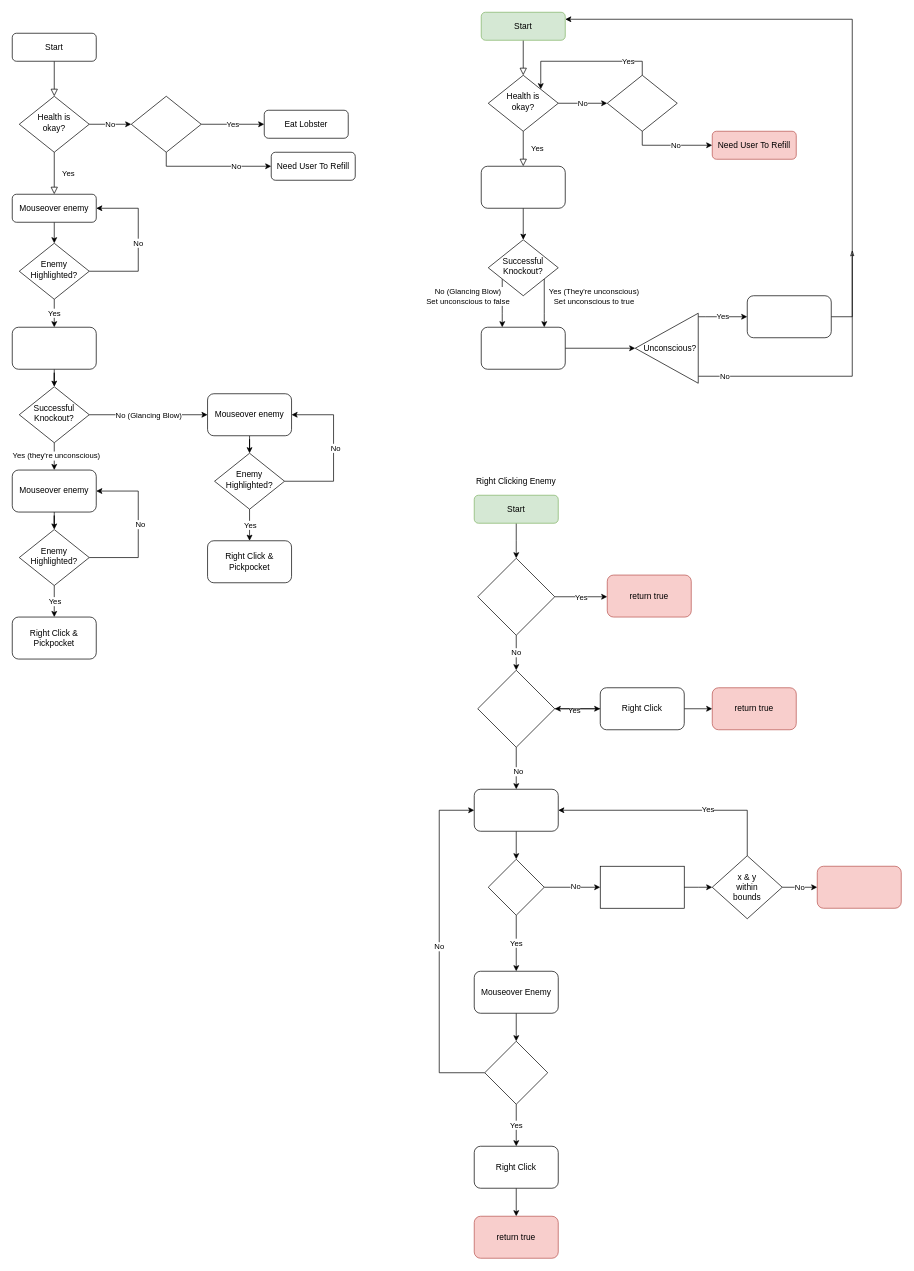
The diagram is 914 pixels wide and 1271 high, and some of its shapes have lost their labels. The shapes that lost their labels are listed below. From the top down, each one's centre as x and y in pixels, then its label:
At pixel 642 103: "Eat Lobster?".
At pixel 166 124: "Have Lobsters?".
At pixel 523 187: "Right Click (Standing) & Knockout".
At pixel 789 316: "Right Click (Laying Down) & Pickpocket".
At pixel 54 348: "Right Click & Knockout".
At pixel 523 348: "Right Click (Standing) & Pickpocket".
At pixel 516 596: "Right Click Menu is Open".
At pixel 516 708: "Already hovering over enemy".
At pixel 516 810: "PixelSearch".
At pixel 516 887: "Found Pixel".
At pixel 642 887: "Increase Search Area".
At pixel 859 887: "return false".
At pixel 516 1072: "Hovering over enemy".
